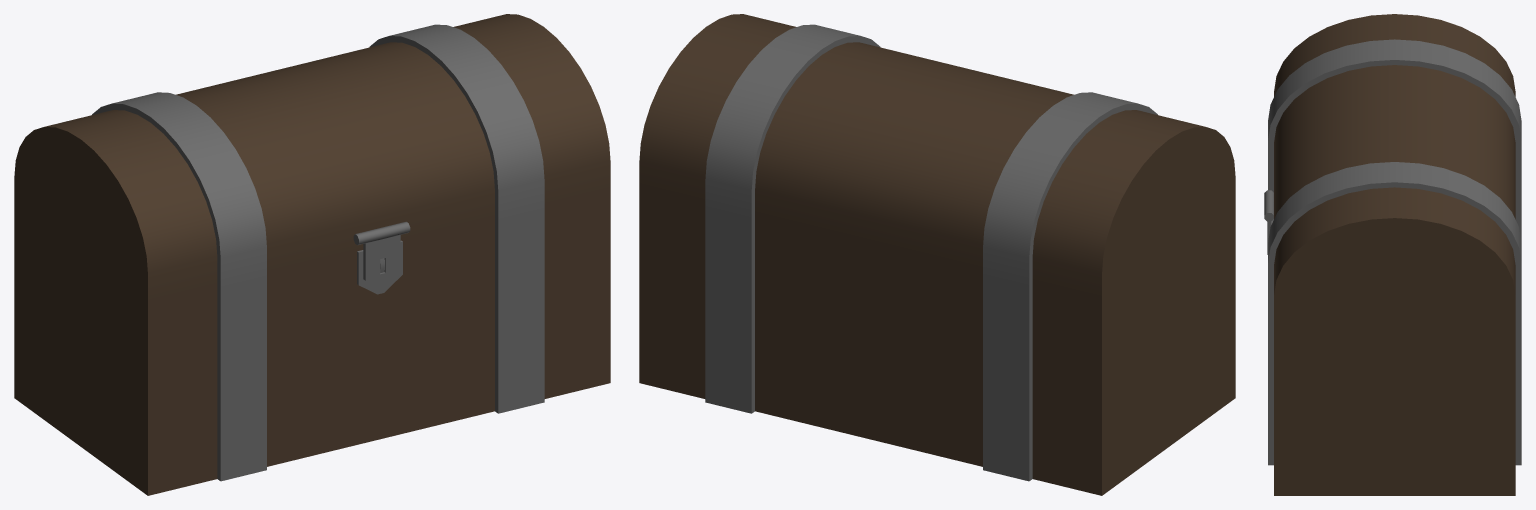
Rendered from M_TreasureChest_v01.fbx.
The picture shows the model from 3 angles, left to right: view 1: azimuth 30°, elevation 25°; view 2: azimuth 150°, elevation 25°; view 3: azimuth 270°, elevation 25°; orthographic projection. The views are drawn at different scales.
Visible parts, largest first — view 1: Chest, ChestLid, ChestLatch, ChestLock; view 2: Chest, ChestLid; view 3: ChestLid, Chest, ChestLatch.
Part boxes in pixels (<box>): Chest: <box>14,189,610,495</box>; ChestLid: <box>14,14,610,302</box>; ChestLatch: <box>353,221,410,287</box>; ChestLock: <box>357,240,402,294</box>; Chest: <box>639,189,1235,495</box>; ChestLid: <box>639,14,1235,302</box>; ChestLid: <box>1268,14,1521,320</box>; Chest: <box>1268,168,1521,495</box>; ChestLatch: <box>1264,190,1273,254</box>.
Size of the model in its own units: 100 by 53.25 by 64.7.
